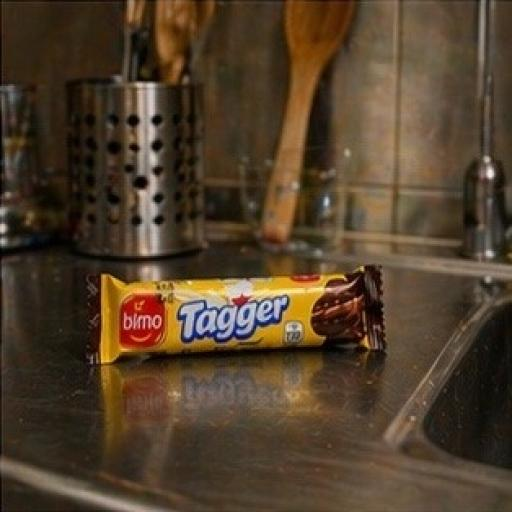tagger: (65, 218, 455, 442)
